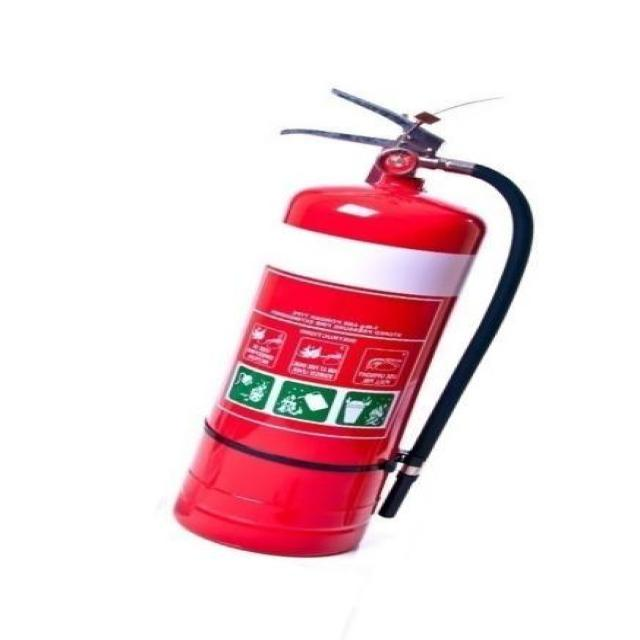fire_extinguisher: (160, 82, 539, 563)
